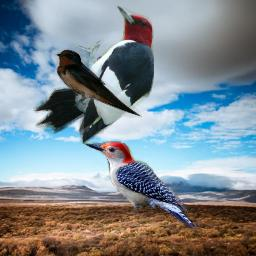Swallow: (54, 48, 142, 118)
Woodpecker: (33, 5, 154, 144), (84, 141, 197, 228)
